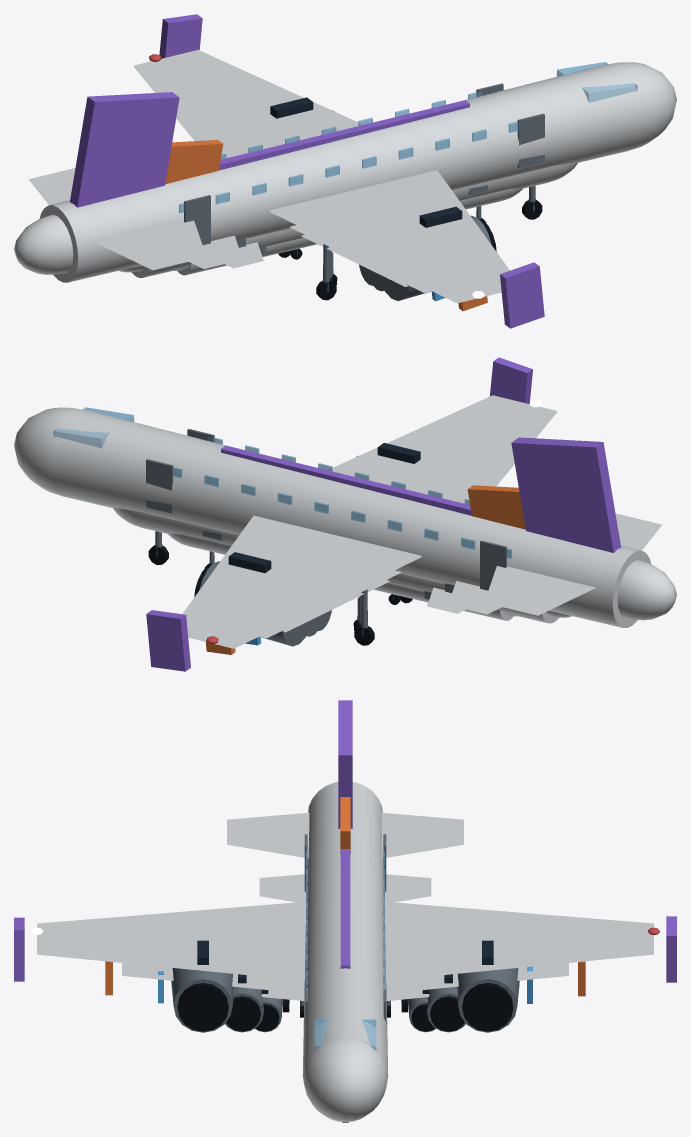
File: aircraft-fleet.glb
3 views of the same model, one above another, from view 1: azimuth 30°, elevation 25°; view 2: azimuth 150°, elevation 25°; view 3: azimuth 270°, elevation 25° (orthographic). The views are drawn at different scales.
Visible parts, largest first — view 1: Fuselage (×3), Main_Wing_L (×2), Vertical_Tail (×2), Main_Wing_R, Tailplane_L (×3), Nose, Tail_Cone, Livery_Stripe, Winglet_L, Winglet_R, Tailplane_R, Door_-15_R (+5 smaller); view 2: Fuselage (×3), Main_Wing_R (×2), Vertical_Tail (×2), Main_Wing_L, Tailplane_R (×3), Nose, Tail_Cone, Livery_Stripe, Winglet_R, Winglet_L, Tailplane_L, Door_-15_L (+5 smaller); view 3: Fuselage, Main_Wing_L (×2), Main_Wing_R (×2), Nose, Tailplane_L (×2), Tailplane_R (×2), Engine_Inlet_L (×2), Engine_Inlet_R (×2), Vertical_Tail, Engine_L, Engine_R, Livery_Stripe (+3 smaller).
Part boxes in pixels (x1=…): Fuselage (×3): x1=39, y1=64, x2=640, y2=282; Main_Wing_L (×2): x1=269, y1=170, x2=509, y2=302; Vertical_Tail (×2): x1=70, y1=92, x2=223, y2=207; Main_Wing_R: x1=134, y1=50, x2=362, y2=159; Tailplane_L (×3): x1=95, y1=220, x2=263, y2=270; Nose: x1=608, y1=62, x2=676, y2=150; Tail_Cone: x1=14, y1=214, x2=73, y2=274; Livery_Stripe: x1=219, y1=100, x2=469, y2=170; Winglet_L: x1=500, y1=262, x2=544, y2=328; Winglet_R: x1=159, y1=14, x2=202, y2=58; Tailplane_R: x1=28, y1=168, x2=75, y2=205; Door_-15_R: x1=184, y1=195, x2=210, y2=245; Fuselage (×3): x1=50, y1=409, x2=651, y2=627; Main_Wing_R (×2): x1=182, y1=515, x2=421, y2=647; Vertical_Tail (×2): x1=467, y1=437, x2=620, y2=552; Main_Wing_L: x1=328, y1=395, x2=556, y2=504; Tailplane_R (×3): x1=427, y1=566, x2=595, y2=615; Nose: x1=14, y1=407, x2=82, y2=495; Tail_Cone: x1=617, y1=560, x2=676, y2=620; Livery_Stripe: x1=221, y1=445, x2=471, y2=515; Winglet_R: x1=146, y1=610, x2=190, y2=671; Winglet_L: x1=489, y1=357, x2=532, y2=403; Tailplane_L: x1=615, y1=513, x2=661, y2=550; Door_-15_L: x1=480, y1=540, x2=506, y2=590; Fuselage: x1=302, y1=782, x2=388, y2=1086; Main_Wing_L (×2): x1=37, y1=901, x2=306, y2=992; Main_Wing_R (×2): x1=384, y1=901, x2=653, y2=992; Nose: x1=303, y1=1037, x2=387, y2=1122; Tailplane_L (×2): x1=227, y1=812, x2=309, y2=902; Tailplane_R (×2): x1=381, y1=812, x2=463, y2=902; Engine_Inlet_L (×2): x1=430, y1=983, x2=513, y2=1031; Engine_Inlet_R (×2): x1=177, y1=983, x2=260, y2=1031; Vertical_Tail: x1=338, y1=700, x2=352, y2=828; Engine_L: x1=457, y1=968, x2=519, y2=1032; Engine_R: x1=171, y1=968, x2=233, y2=1032; Livery_Stripe: x1=340, y1=849, x2=350, y2=968.
Size of what is drawn, in the model's own units: 84.06 by 27.78 by 77.14.
